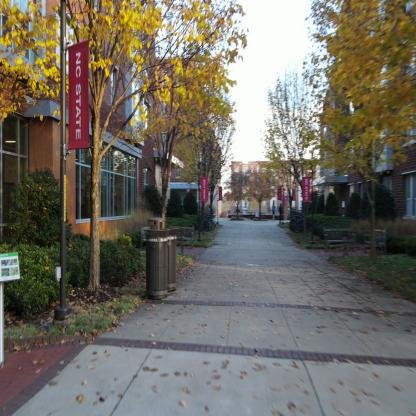Wolf Ridge: (0, 57, 230, 292), (317, 52, 415, 304), (222, 148, 314, 227)
